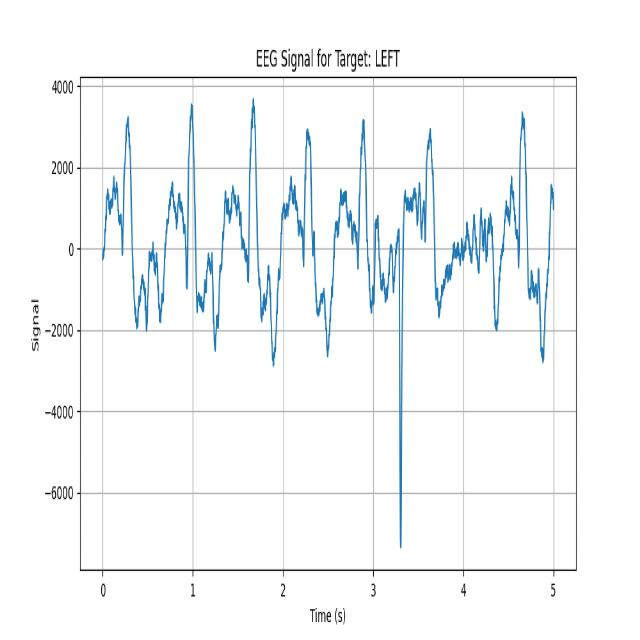LEFT: (340, 89, 393, 372), (498, 89, 544, 390), (284, 92, 333, 371), (166, 99, 214, 382), (101, 96, 153, 352), (229, 95, 274, 367), (414, 101, 448, 315)
